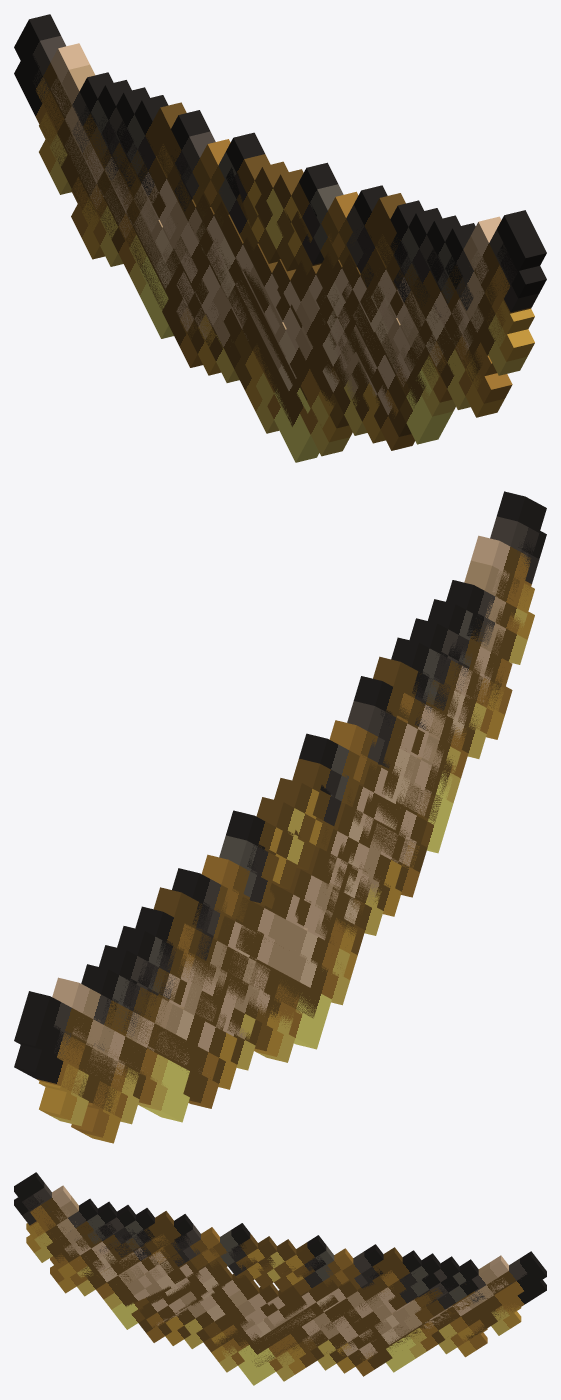
Rendered from sandstone_sickle.glb.
3 renders of one model, top to bottom at view 1: azimuth 30°, elevation 25°; view 2: azimuth 150°, elevation 25°; view 3: azimuth 270°, elevation 25°, orthographic. The views are drawn at different scales.
Visible parts, largest first — view 1: main__Tool_R, off__Tool_L; view 2: main__Tool_R, off__Tool_L; view 3: main__Tool_R, off__Tool_L.
Boxes of the visible parts, box(x1,y1,x2,y2) form: main__Tool_R: box(14, 14, 546, 435); off__Tool_L: box(14, 47, 546, 462); main__Tool_R: box(14, 491, 546, 1116); off__Tool_L: box(14, 531, 546, 1143); main__Tool_R: box(14, 1172, 546, 1371); off__Tool_L: box(14, 1196, 546, 1385).
Bounding box in the file's own units: 0.0531 × 0.9537 × 2.21.
Materials: 1 (1 with a texture image).
